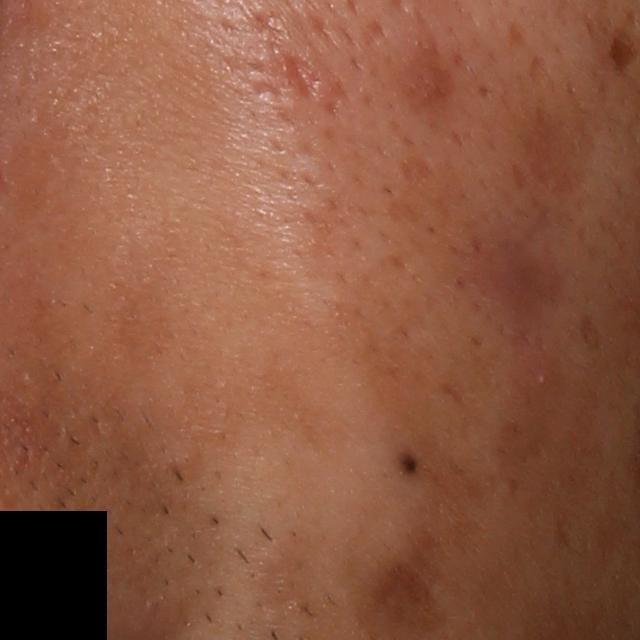atrophic_scar: (281, 49, 323, 102), (394, 153, 439, 185)
nevus: (397, 447, 423, 475)
